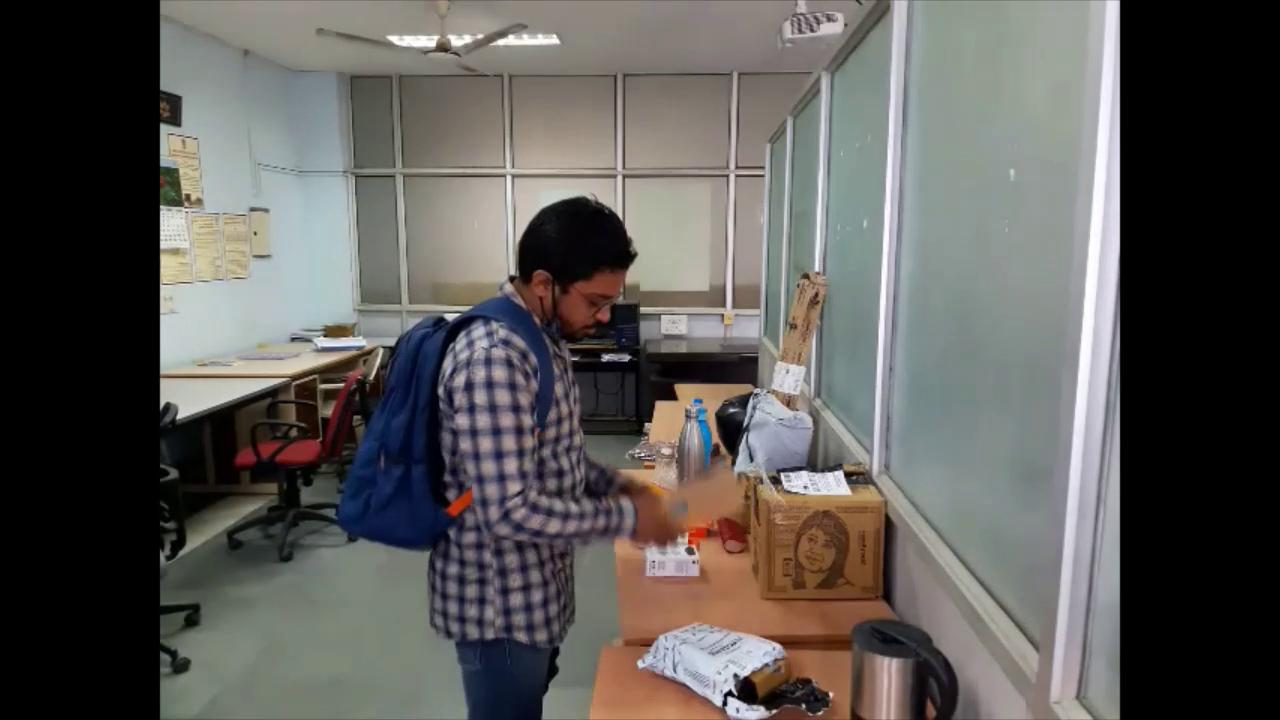Normal: (334, 168, 677, 720)
